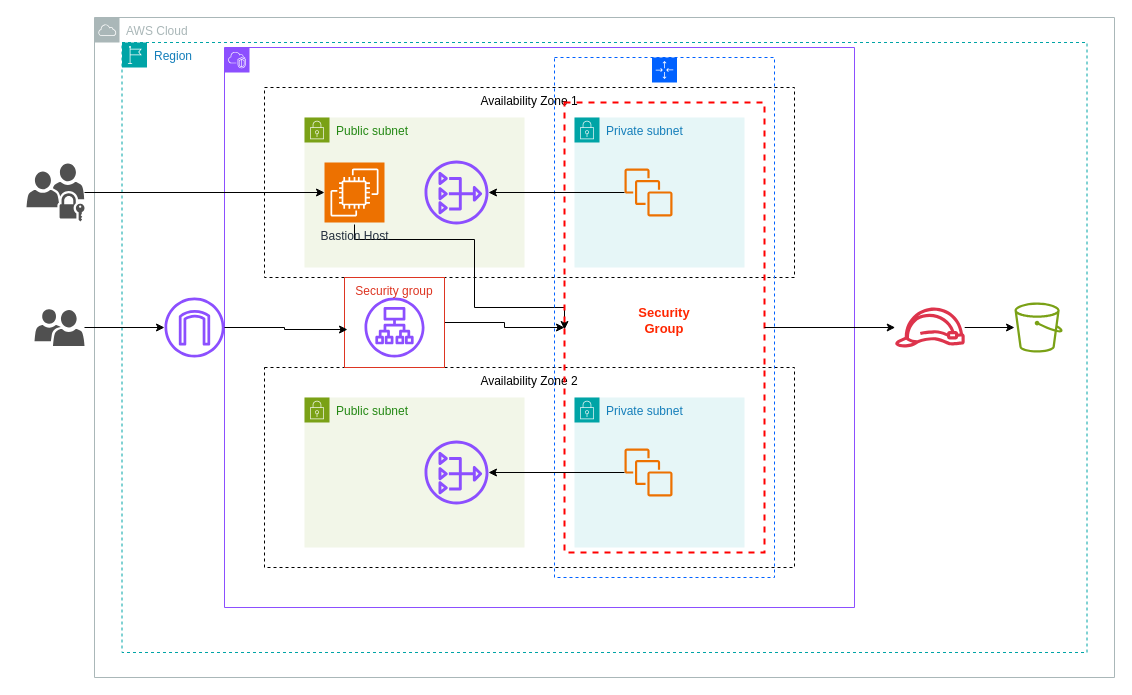
Some shapes in this 1132 by 695 pixel diagram are drawn without their labels. The box of each missing label's shape, as (x1, y1, x2, y2) in pixels:
Auto Scaling group: (554, 56, 774, 578)
DevOps Team: (26, 163, 84, 221)
Public: (34, 308, 84, 346)
VPC: (224, 46, 854, 608)
